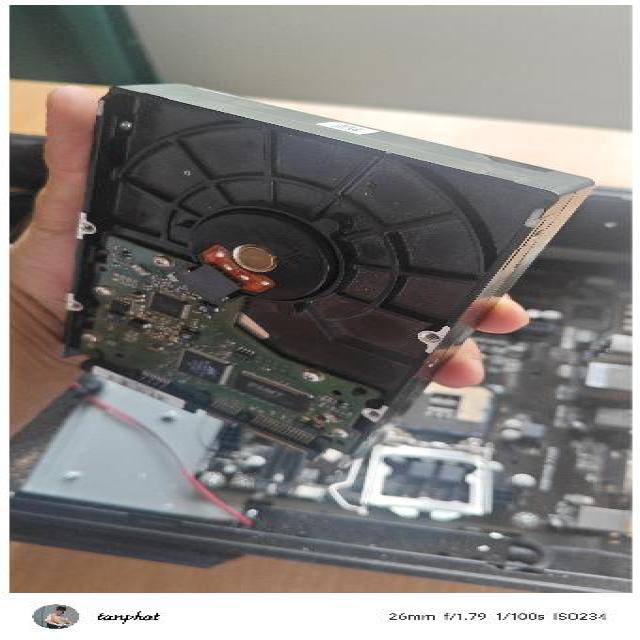DISK: (55, 78, 594, 476)
